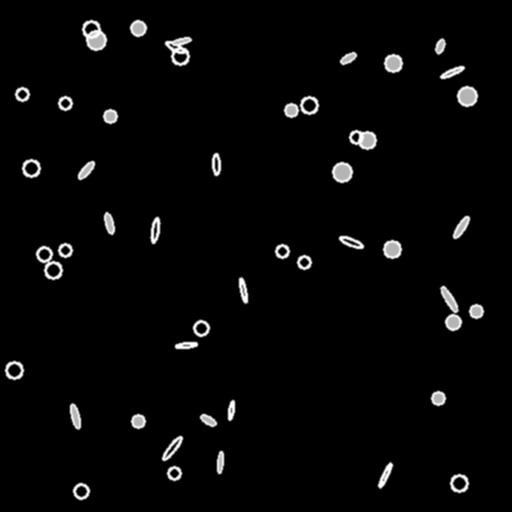pseudomonas: (161, 435, 183, 461), (439, 285, 459, 313), (452, 215, 470, 239), (377, 462, 393, 488), (76, 160, 96, 180), (338, 235, 364, 249), (440, 65, 464, 79), (165, 39, 185, 55), (69, 403, 81, 429), (150, 217, 160, 243), (339, 51, 357, 65), (199, 413, 217, 427), (238, 278, 248, 302), (104, 213, 114, 233), (212, 153, 220, 175), (176, 341, 196, 349), (435, 38, 445, 54), (227, 401, 235, 419), (172, 37, 190, 45), (217, 451, 223, 473)
synechocystis: (458, 87, 476, 105), (87, 31, 105, 49), (333, 163, 351, 181), (384, 241, 400, 257), (6, 362, 22, 378), (23, 160, 39, 176), (45, 262, 61, 278), (172, 48, 188, 64), (385, 55, 401, 71), (83, 21, 99, 37), (359, 132, 375, 148), (451, 475, 467, 491), (301, 97, 317, 113), (446, 315, 460, 329), (37, 247, 51, 261), (194, 321, 208, 335), (131, 21, 145, 35), (74, 484, 88, 498), (59, 97, 71, 109), (276, 245, 288, 257), (104, 110, 116, 122), (432, 392, 444, 404), (132, 415, 144, 427), (298, 256, 310, 268), (285, 104, 297, 116), (470, 305, 482, 317), (168, 467, 180, 479), (16, 88, 28, 100), (59, 244, 71, 256), (350, 131, 362, 143)
